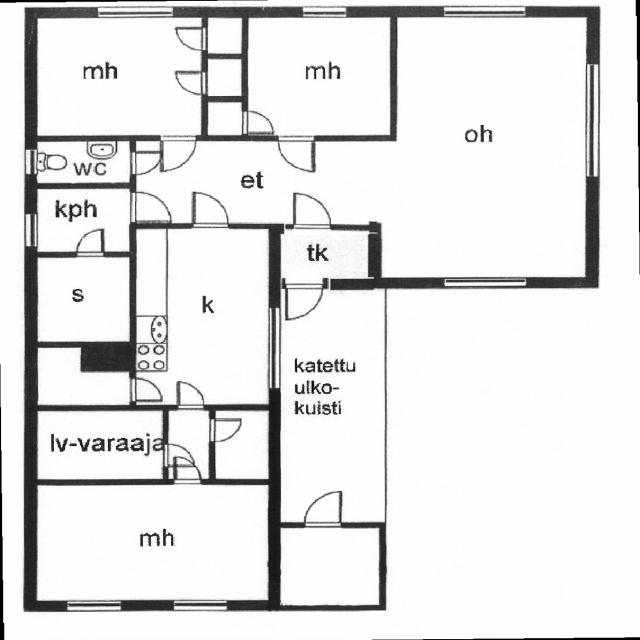door: (285, 278, 323, 320), (294, 193, 330, 234), (304, 490, 342, 528), (278, 136, 314, 172), (161, 136, 196, 172), (130, 192, 172, 222), (193, 194, 228, 229), (173, 71, 208, 95), (209, 418, 243, 442), (174, 456, 201, 486), (76, 228, 103, 258), (130, 378, 164, 401), (130, 152, 163, 175), (162, 444, 195, 467), (177, 382, 203, 411), (174, 28, 208, 50), (241, 111, 275, 133)
